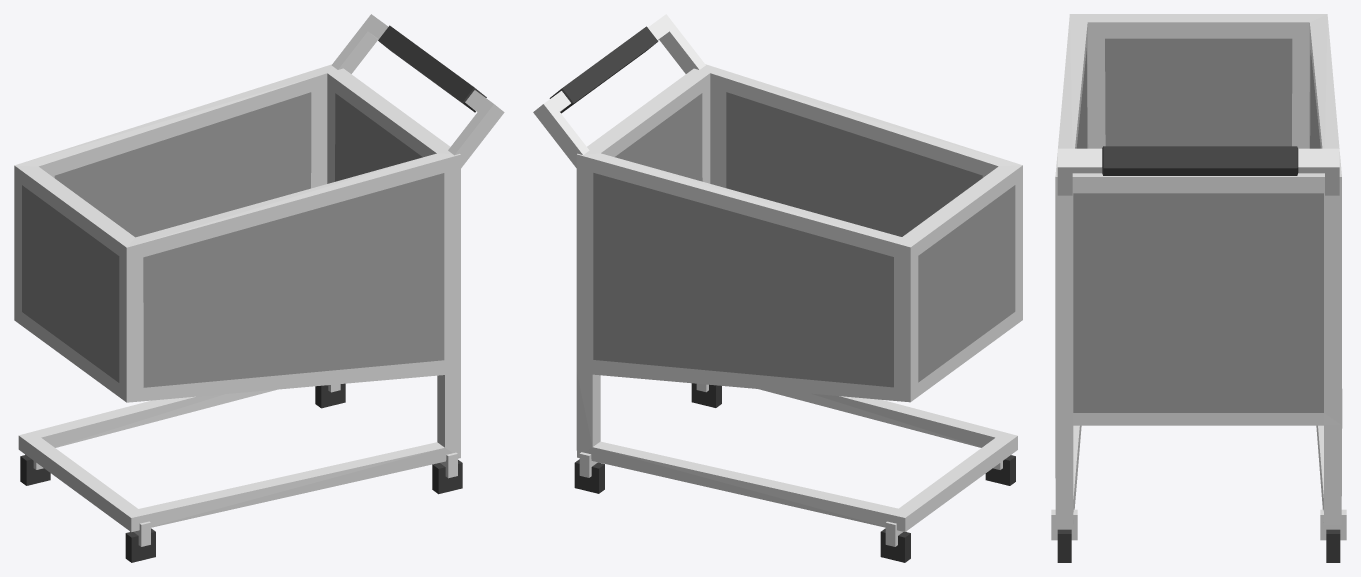
The model's file is Cart.fbx.
3 renders of one model, left to right at view 1: azimuth 30°, elevation 25°; view 2: azimuth 150°, elevation 25°; view 3: azimuth 270°, elevation 25°, orthographic. The views are drawn at different scales.
Visible parts, largest first — view 1: Cube.005; view 2: Cube.005; view 3: Cube.005.
Boxes of the visible parts, x1,y1,x2,y2 form: Cube.005: (14,14,504,562); Cube.005: (533,14,1022,562); Cube.005: (1051,14,1346,562).
Size of the model in its own units: 1168 by 694 by 1128.
